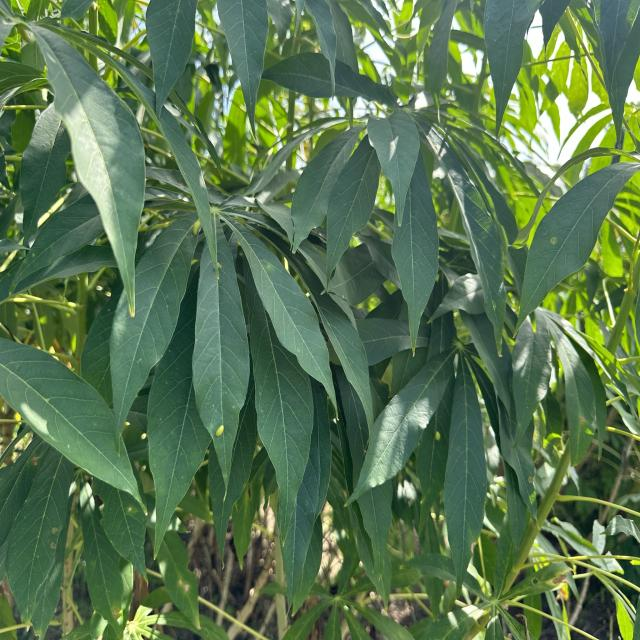Mosca: (187, 211, 211, 249), (321, 403, 347, 435), (111, 416, 141, 438), (130, 452, 152, 481), (173, 257, 206, 275), (207, 417, 225, 443), (429, 424, 446, 443), (546, 229, 560, 251)
